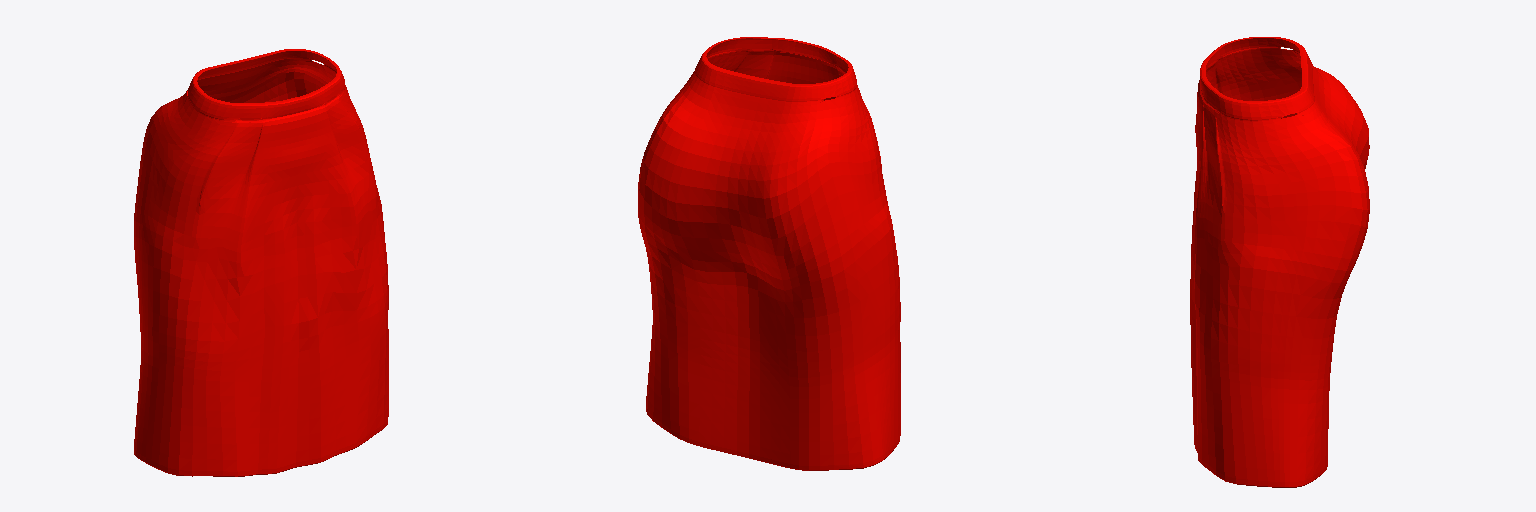
The model's file is baotunqun1.obj.
3 views of the same model, side by side, from view 1: azimuth 30°, elevation 25°; view 2: azimuth 150°, elevation 25°; view 3: azimuth 270°, elevation 25° (orthographic).
Visible parts, largest first — view 1: file; view 2: file; view 3: file.
Part boxes in pixels (x1,y1,x2,y2): file: (134, 49, 388, 476); file: (638, 37, 900, 470); file: (1190, 37, 1369, 487).
Size of the model in its own units: 3.92 by 6.02 by 2.6.